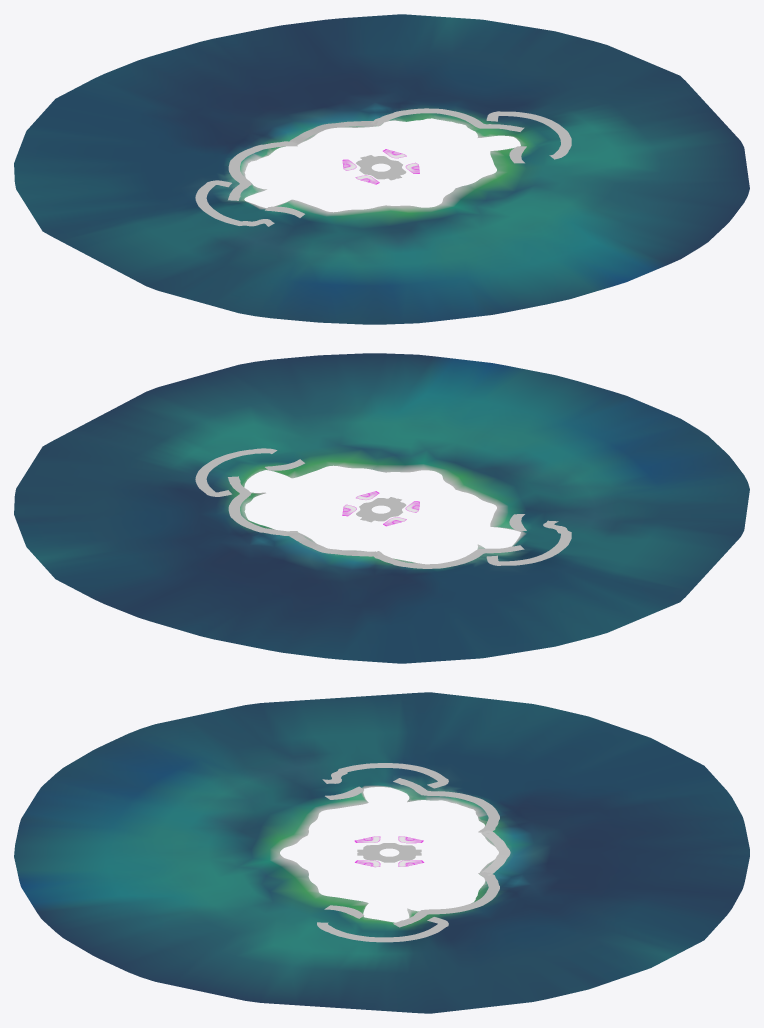
File: pref_VFX_Water_beta_01_lv2.fbx
The picture shows the model from 3 angles, top to bottom: view 1: azimuth 30°, elevation 25°; view 2: azimuth 150°, elevation 25°; view 3: azimuth 270°, elevation 25°; orthographic projection. The views are drawn at different scales.
Visible parts, largest first — view 1: pref_sm_beach_tech_hunt_003_sea01_lv2, pref_sm_beach_tech_hunt_003_sealine_lv2, pref_sm_beach_techunderwater01_lv2; view 2: pref_sm_beach_tech_hunt_003_sea01_lv2, pref_sm_beach_tech_hunt_003_sealine_lv2, pref_sm_beach_techunderwater01_lv2; view 3: pref_sm_beach_tech_hunt_003_sea01_lv2, pref_sm_beach_tech_hunt_003_sealine_lv2, pref_sm_beach_techunderwater01_lv2.
Part boxes in pixels (x1=…): pref_sm_beach_tech_hunt_003_sea01_lv2: x1=14, y1=14, x2=749, y2=324; pref_sm_beach_tech_hunt_003_sealine_lv2: x1=195, y1=108, x2=571, y2=226; pref_sm_beach_techunderwater01_lv2: x1=356, y1=155, x2=406, y2=180; pref_sm_beach_tech_hunt_003_sea01_lv2: x1=14, y1=353, x2=749, y2=663; pref_sm_beach_tech_hunt_003_sealine_lv2: x1=195, y1=448, x2=571, y2=568; pref_sm_beach_techunderwater01_lv2: x1=356, y1=497, x2=406, y2=522; pref_sm_beach_tech_hunt_003_sea01_lv2: x1=14, y1=692, x2=749, y2=1013; pref_sm_beach_tech_hunt_003_sealine_lv2: x1=317, y1=763, x2=510, y2=942; pref_sm_beach_techunderwater01_lv2: x1=357, y1=843, x2=421, y2=862.
Size of the model in its own units: 397 by 3.69 by 384.
